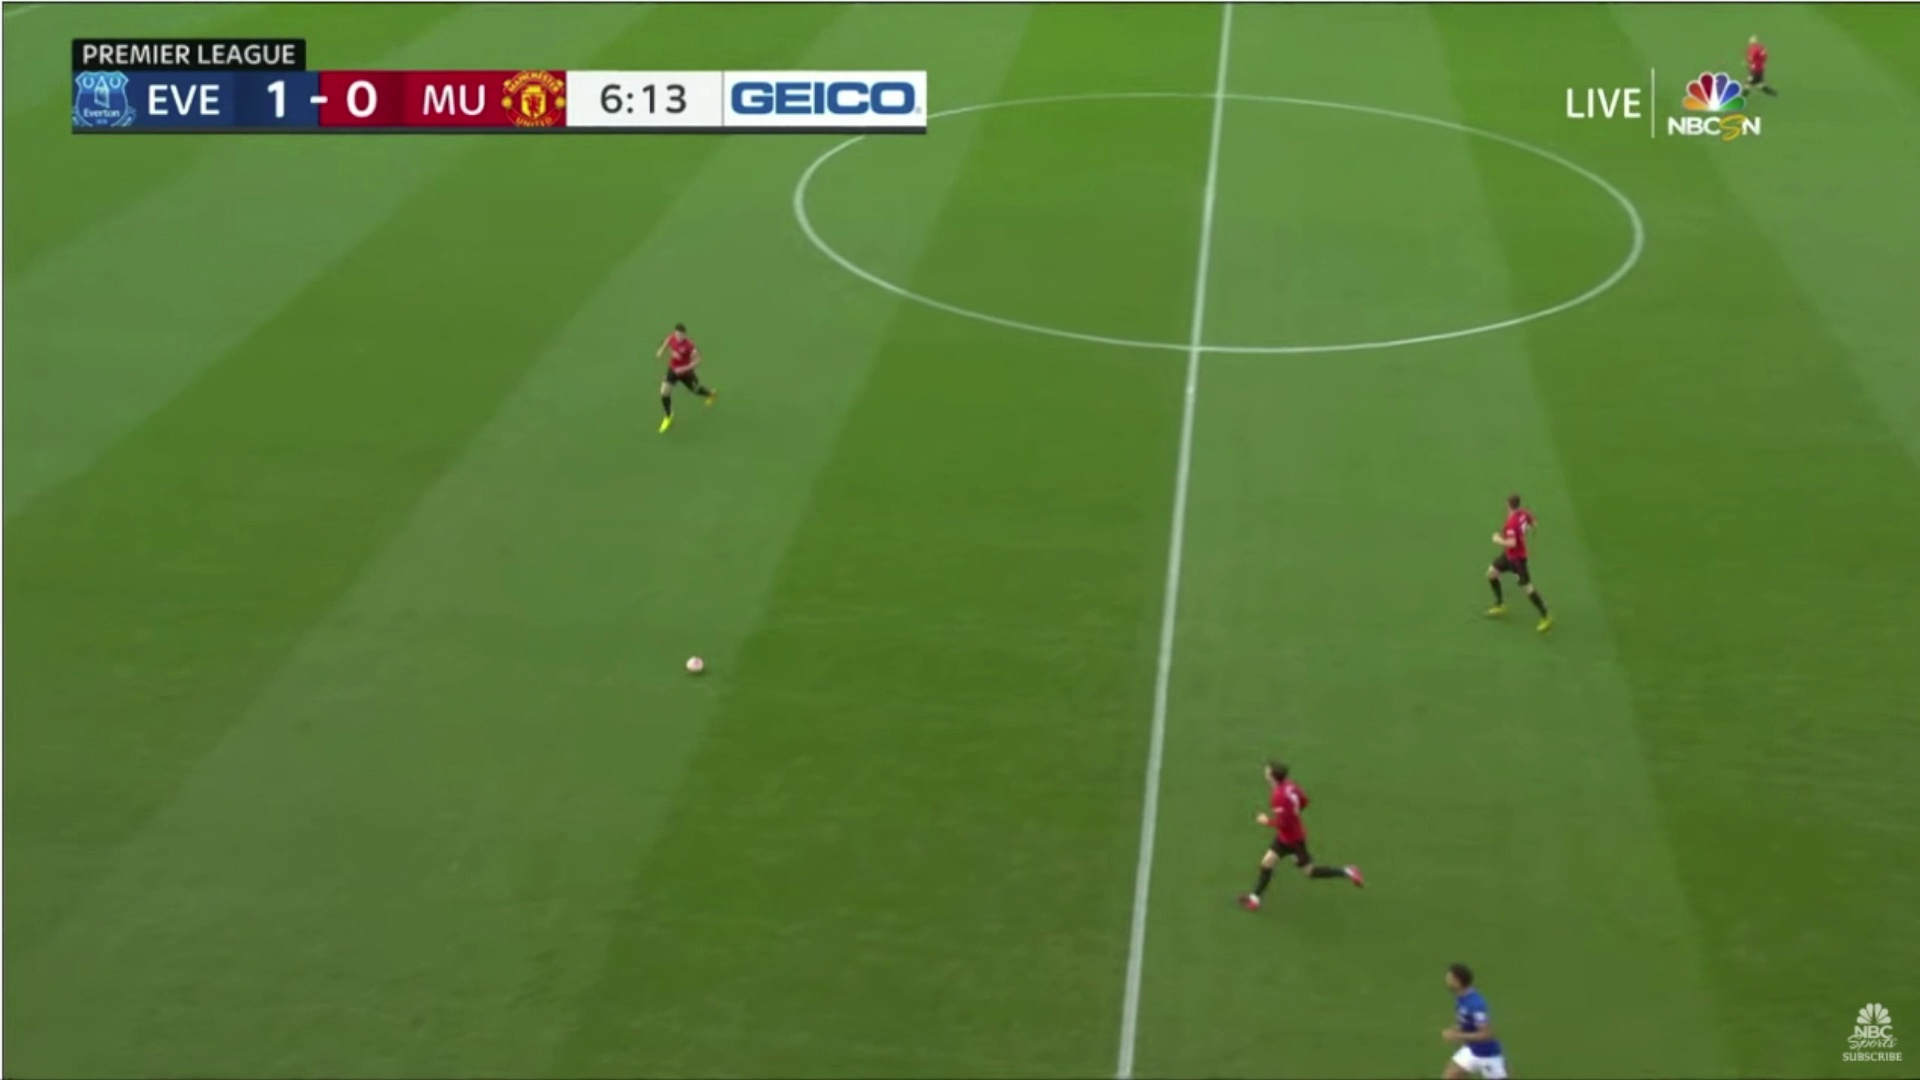ball: (672, 638, 731, 694)
player: (1231, 748, 1385, 937), (1456, 481, 1574, 648), (1425, 944, 1531, 1080), (649, 312, 731, 452), (1722, 29, 1810, 142)
